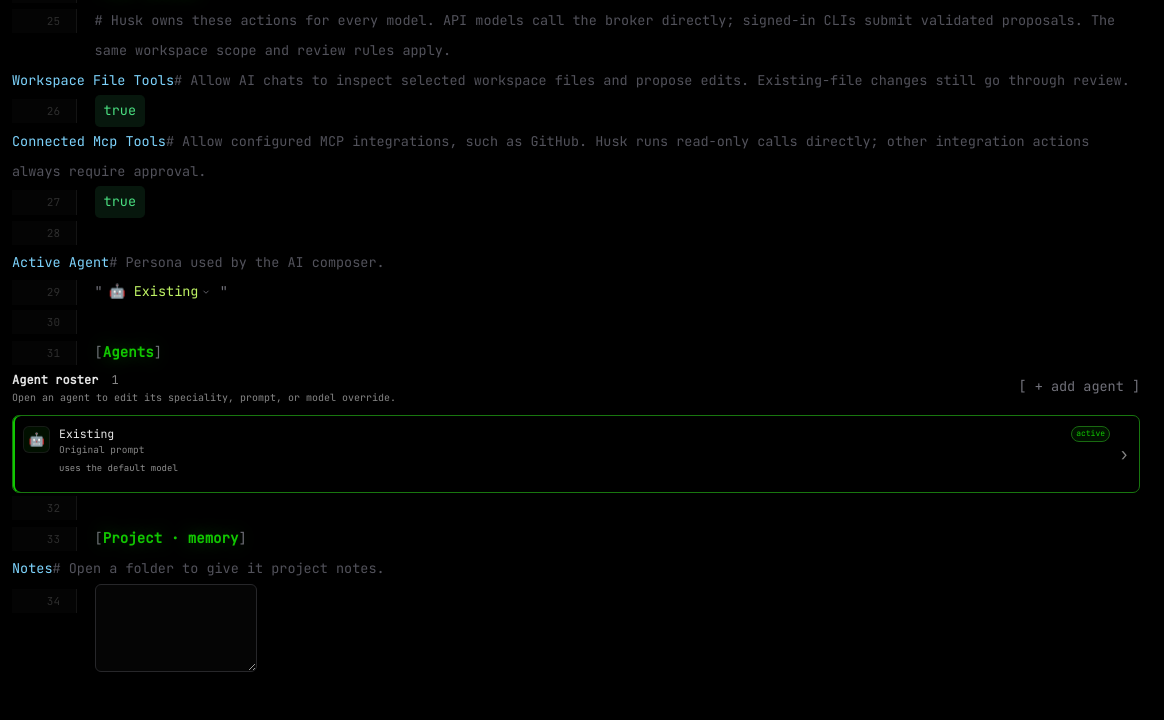
Test: agent settings drafts › requires name/instructions inline before any native write
(page scrolled)
Click the button "[ + add agent ]" at (1079,387), box [1018,372,1140,402]
(page scrolled)
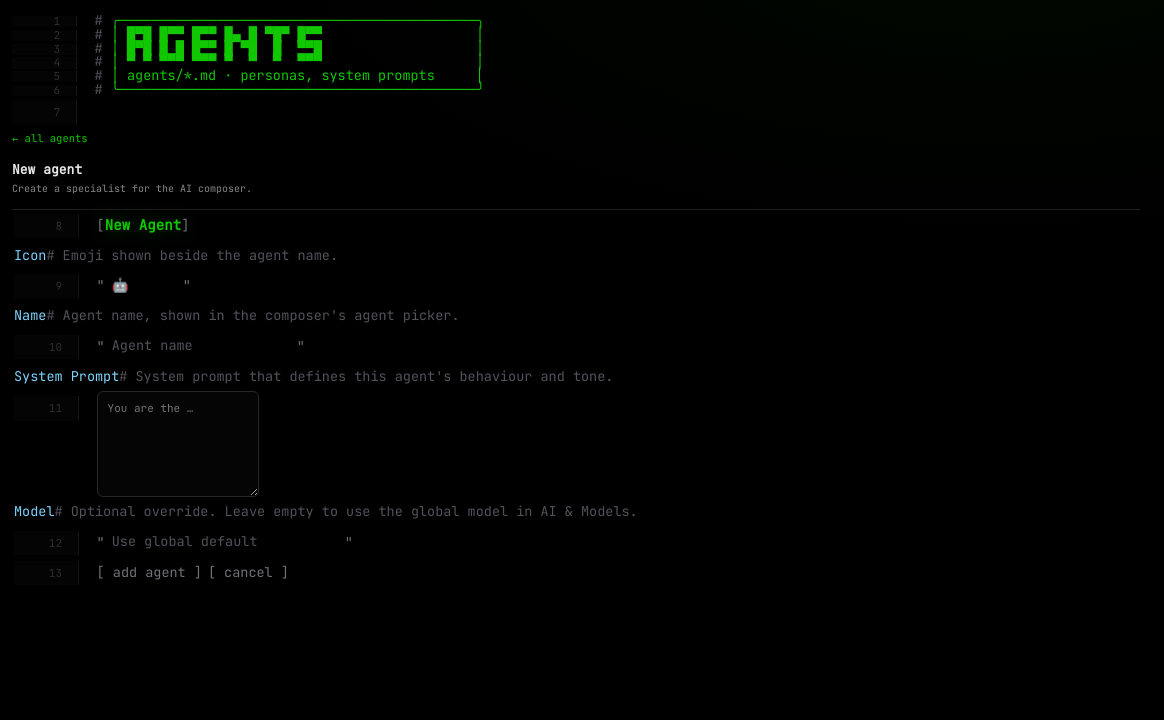
Result: the button "[ add agent ]" is shown
Click the button "[ add agent ]" at (149,573), box [97,558,202,587]
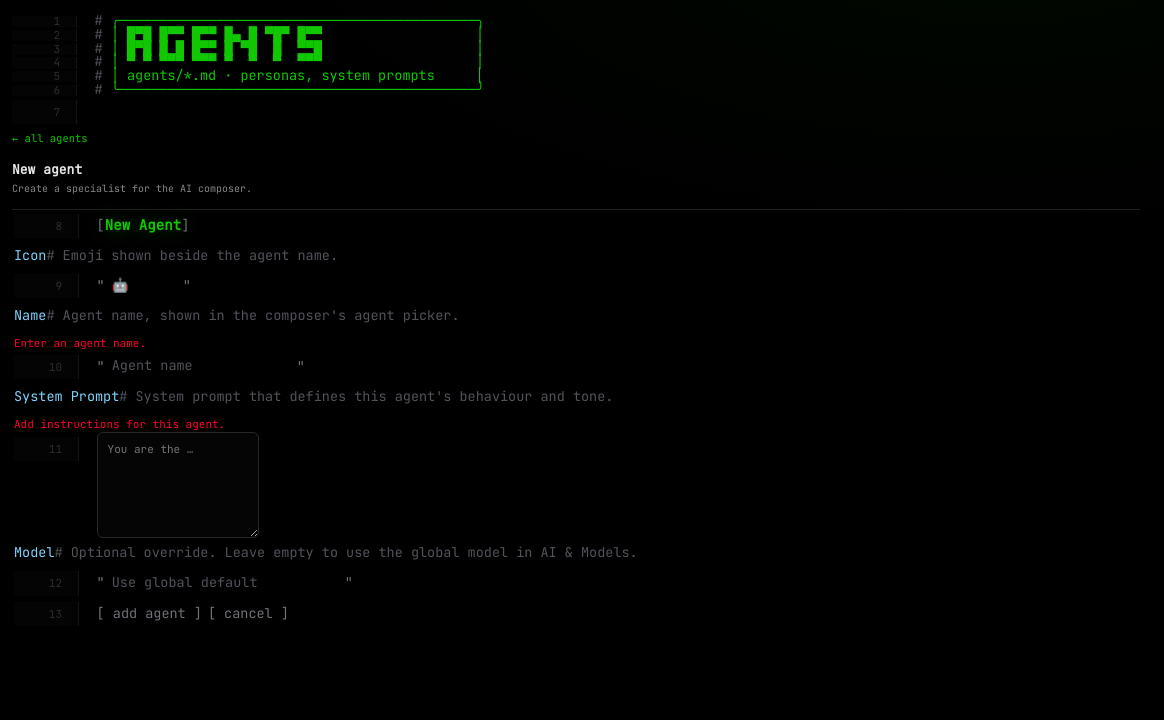
Result: the text "Enter an agent name" is shown at [14,336,146,350]
Result: the text "Add instructions" is shown at [14,417,225,431]
